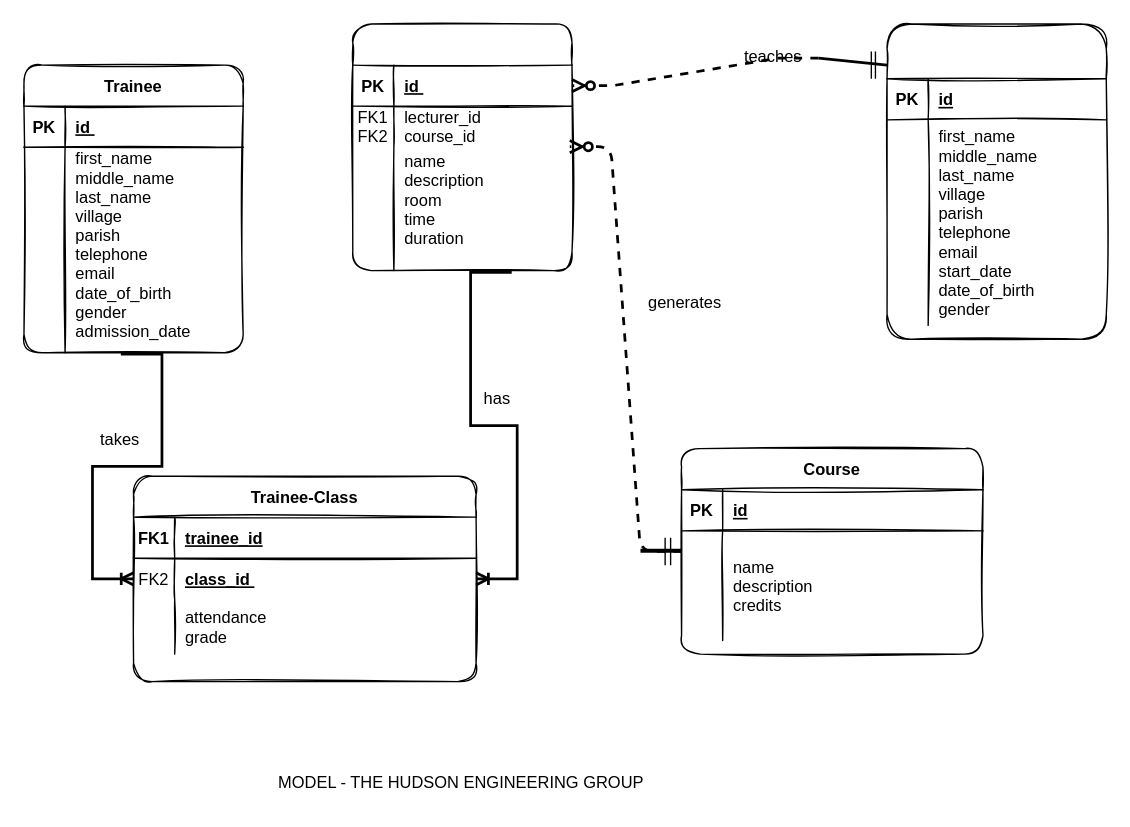
Image size: 1130x827. Some labels were removed from this diagram. The box of each missing label's shape, as (x1, y1, x2, y2) in pixels:
Class: (351, 23, 572, 271)
Instructor: (886, 23, 1106, 339)
